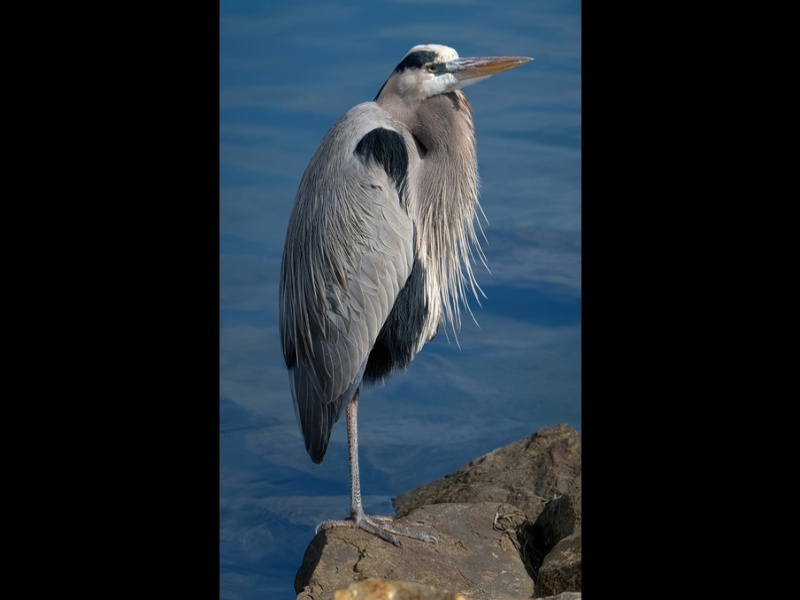heron: (276, 33, 540, 551)
